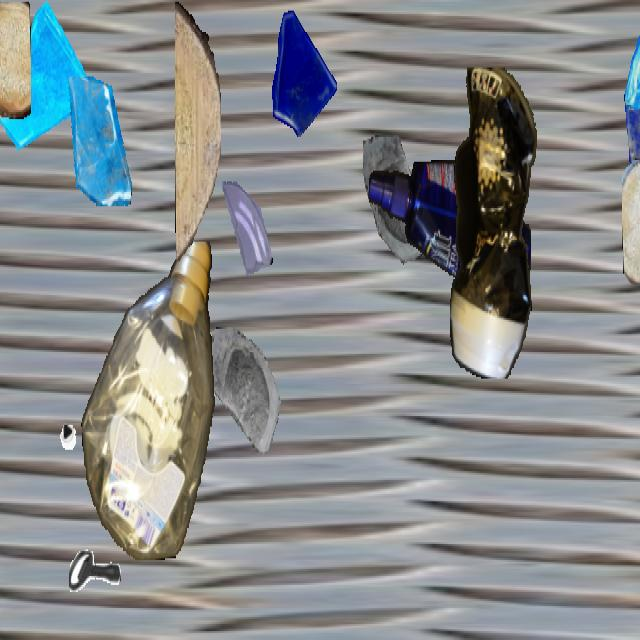glass: (0, 2, 90, 162), (361, 135, 447, 288), (209, 323, 293, 473), (263, 2, 339, 137), (62, 76, 134, 205), (217, 180, 275, 282), (622, 75, 640, 192), (623, 2, 640, 119)
metal: (23, 354, 81, 457), (69, 528, 121, 620)
plastic: (81, 242, 217, 558), (450, 67, 538, 377), (369, 160, 531, 306)
wood: (175, 2, 221, 261), (0, 2, 31, 119), (622, 158, 640, 283), (0, 2, 9, 140)
